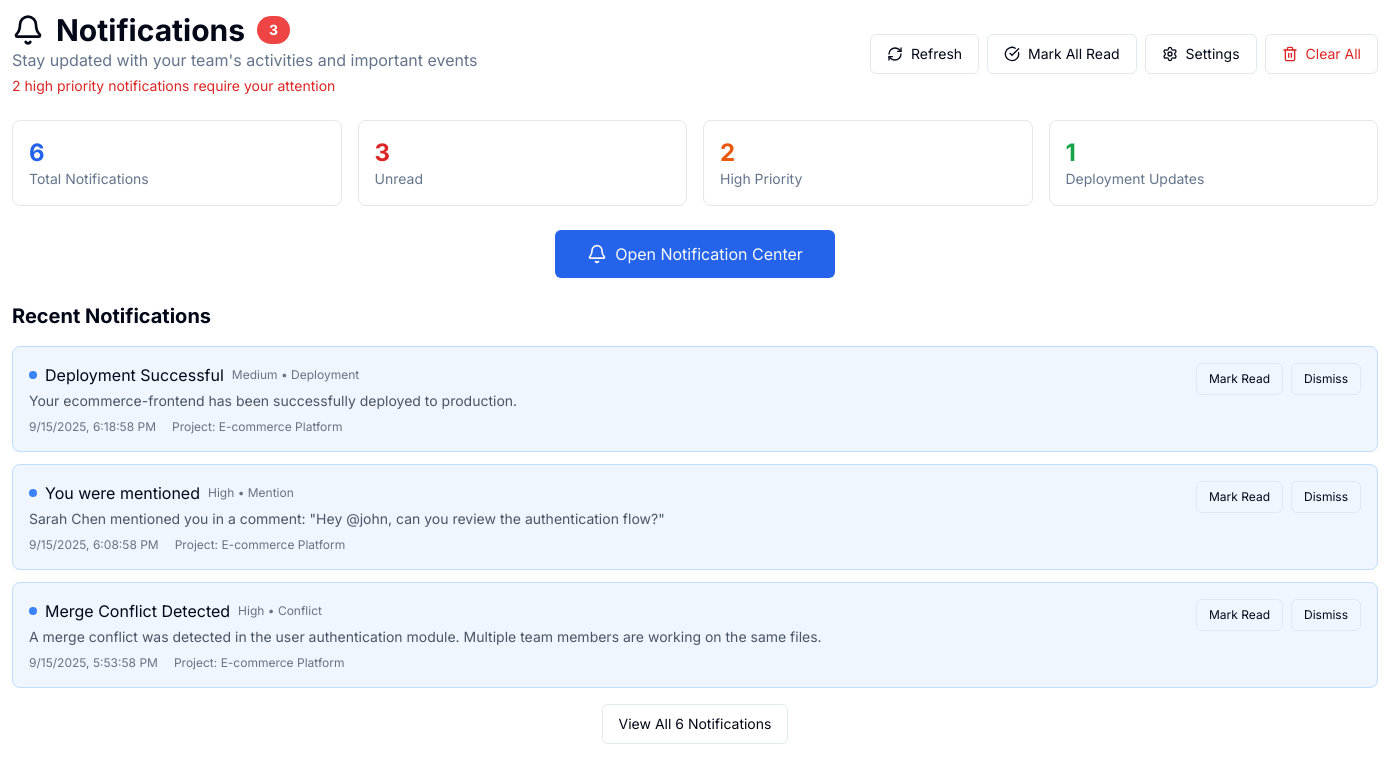
Test case: Notifications Page › marks all notifications as read when mark all read button is clicked
Click the button "Mark All Read": (1062, 54) [987,34,1137,74]
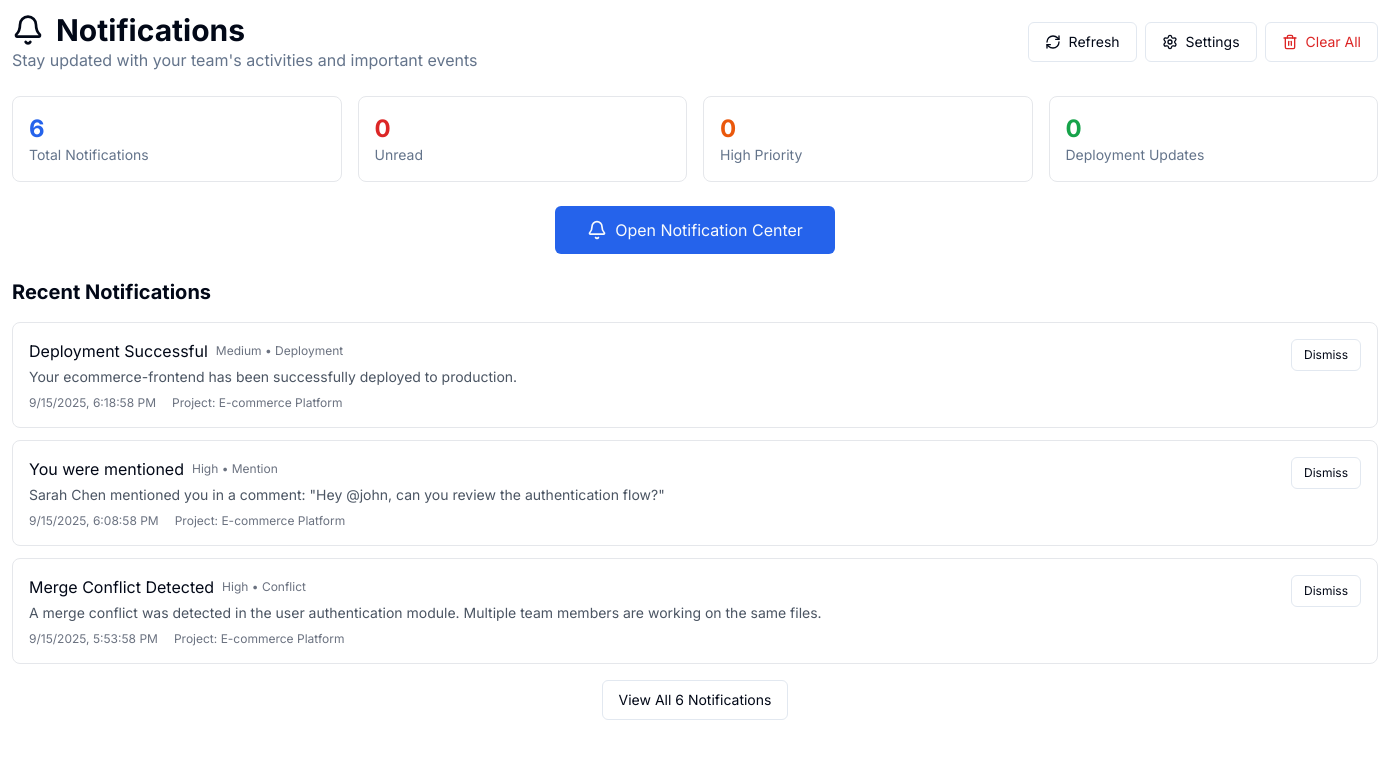
Now the button "Mark All Read" is gone
